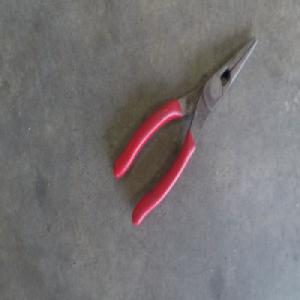Pliers: (113, 34, 257, 222)
